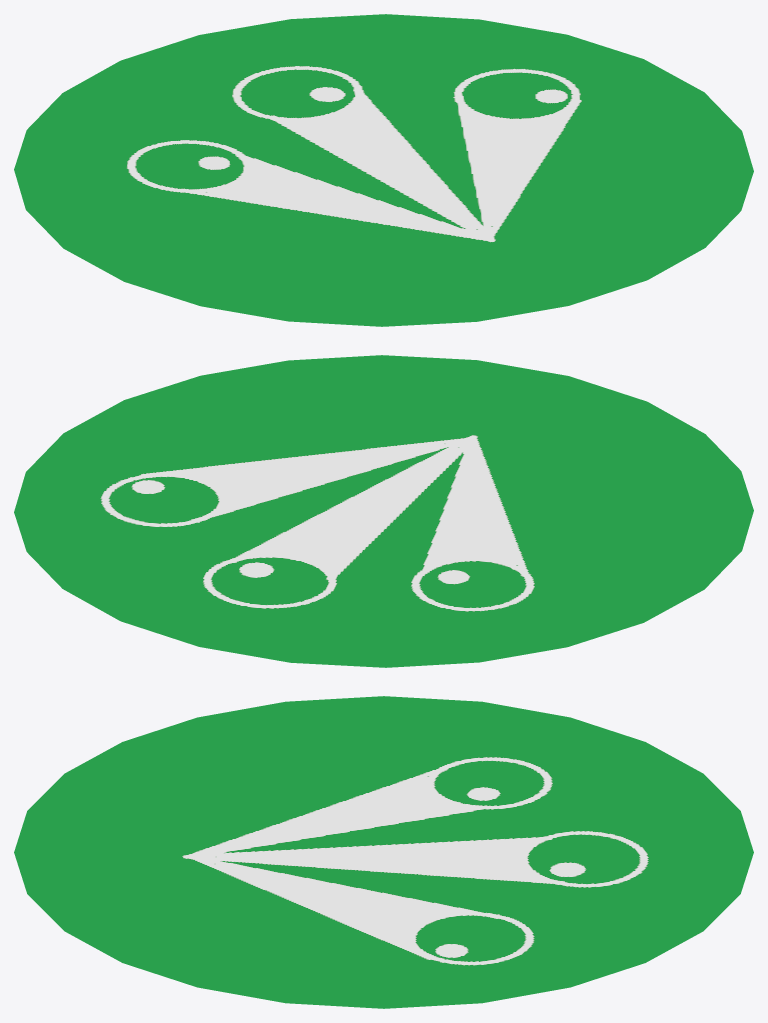
Rendered from 分散球.fbx.
The picture shows the model from 3 angles, top to bottom: view 1: azimuth 30°, elevation 25°; view 2: azimuth 150°, elevation 25°; view 3: azimuth 270°, elevation 25°; orthographic projection.
Parts seen in each view (by area): view 1: 分散球; view 2: 分散球; view 3: 分散球.
Boxes of the visible parts, left/top/right/bottom form: 分散球: left=14, top=14, right=753, bottom=326; 分散球: left=14, top=355, right=753, bottom=667; 分散球: left=14, top=696, right=753, bottom=1008.
Size of the model in its own units: 4 by 2.45e-16 by 4.
1 material, 1 textured.
